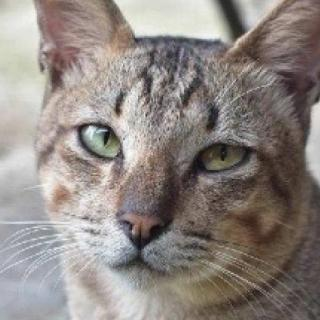cat: (22, 0, 320, 291)
nose: (114, 199, 173, 253)
